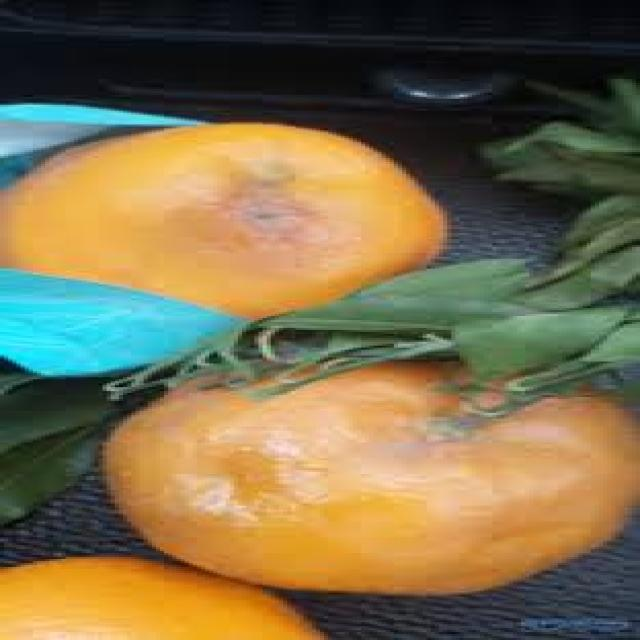organic waste: (90, 336, 636, 590), (0, 118, 447, 340), (4, 553, 328, 638)
